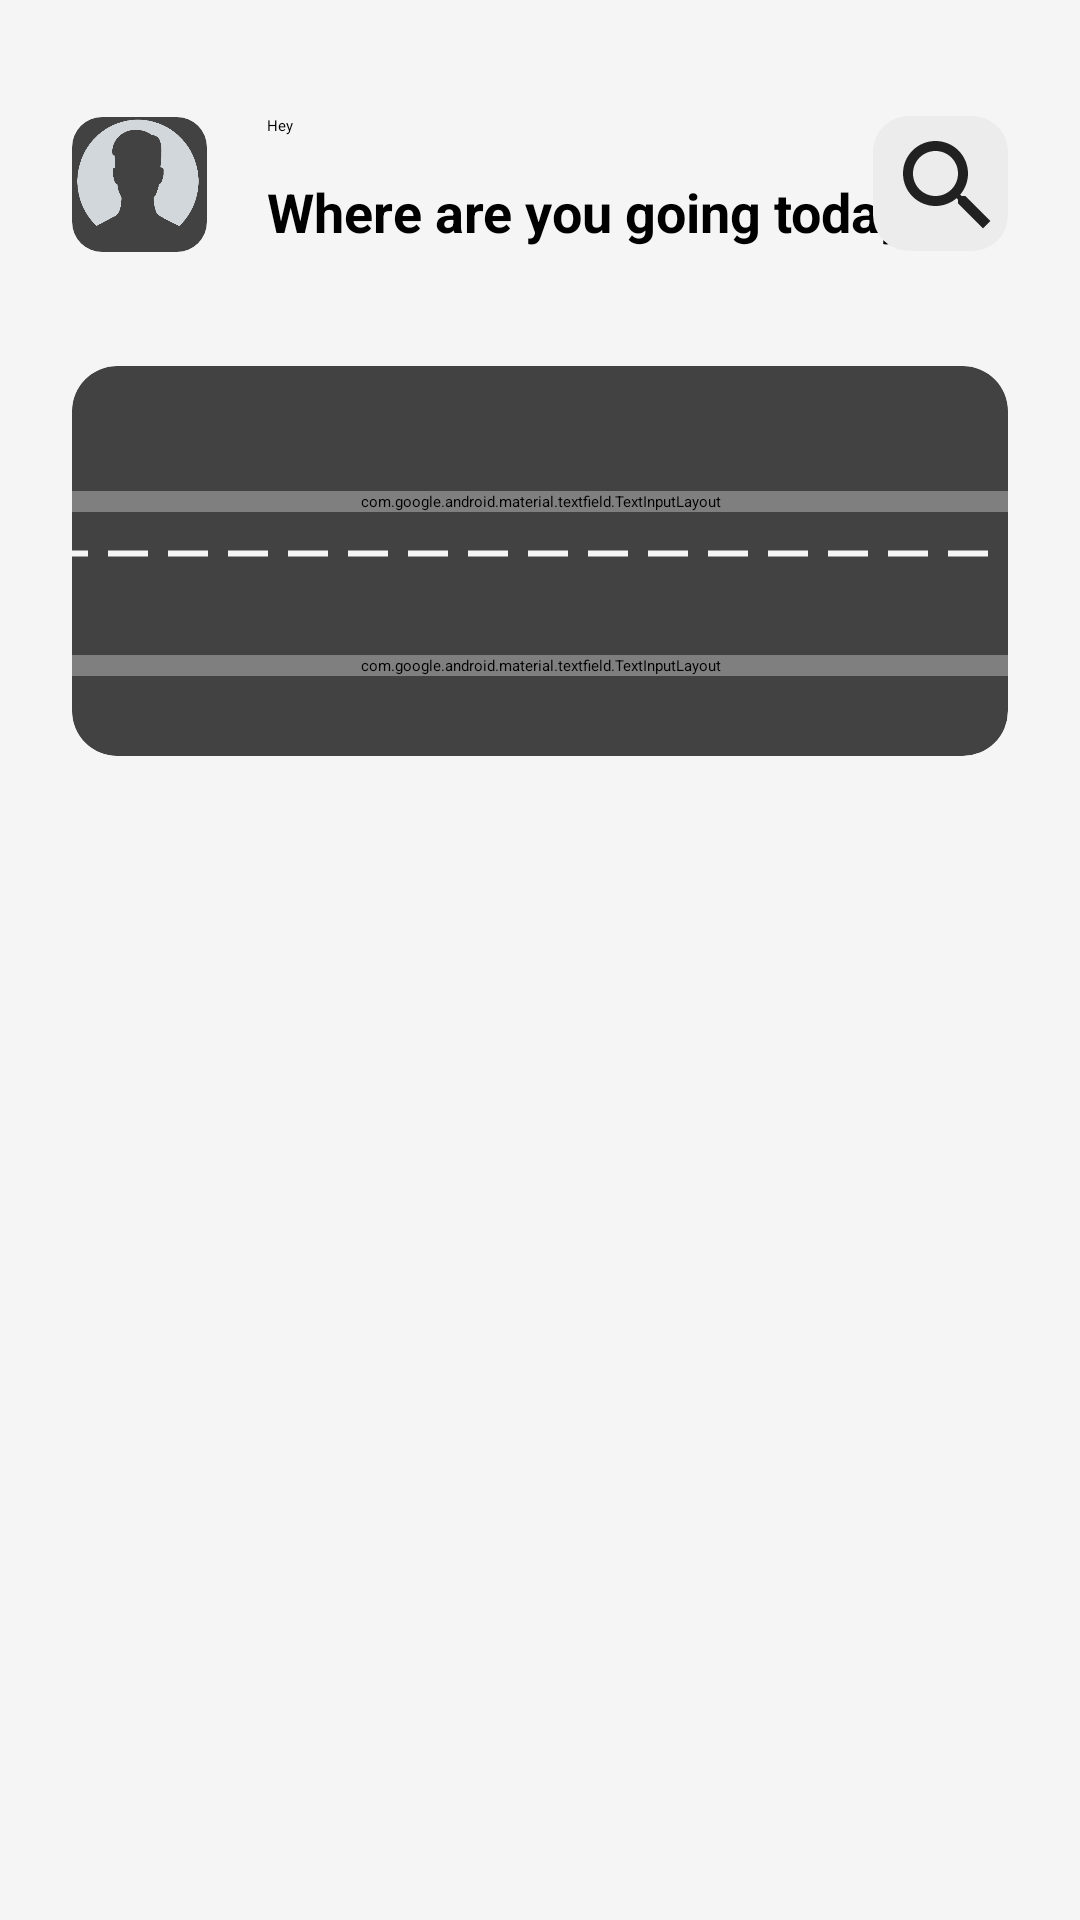

Where to tap for icons on this 1080px x 1920px app screen, as [x,y]:
profile pic: [139,177]
search: [946,184]
